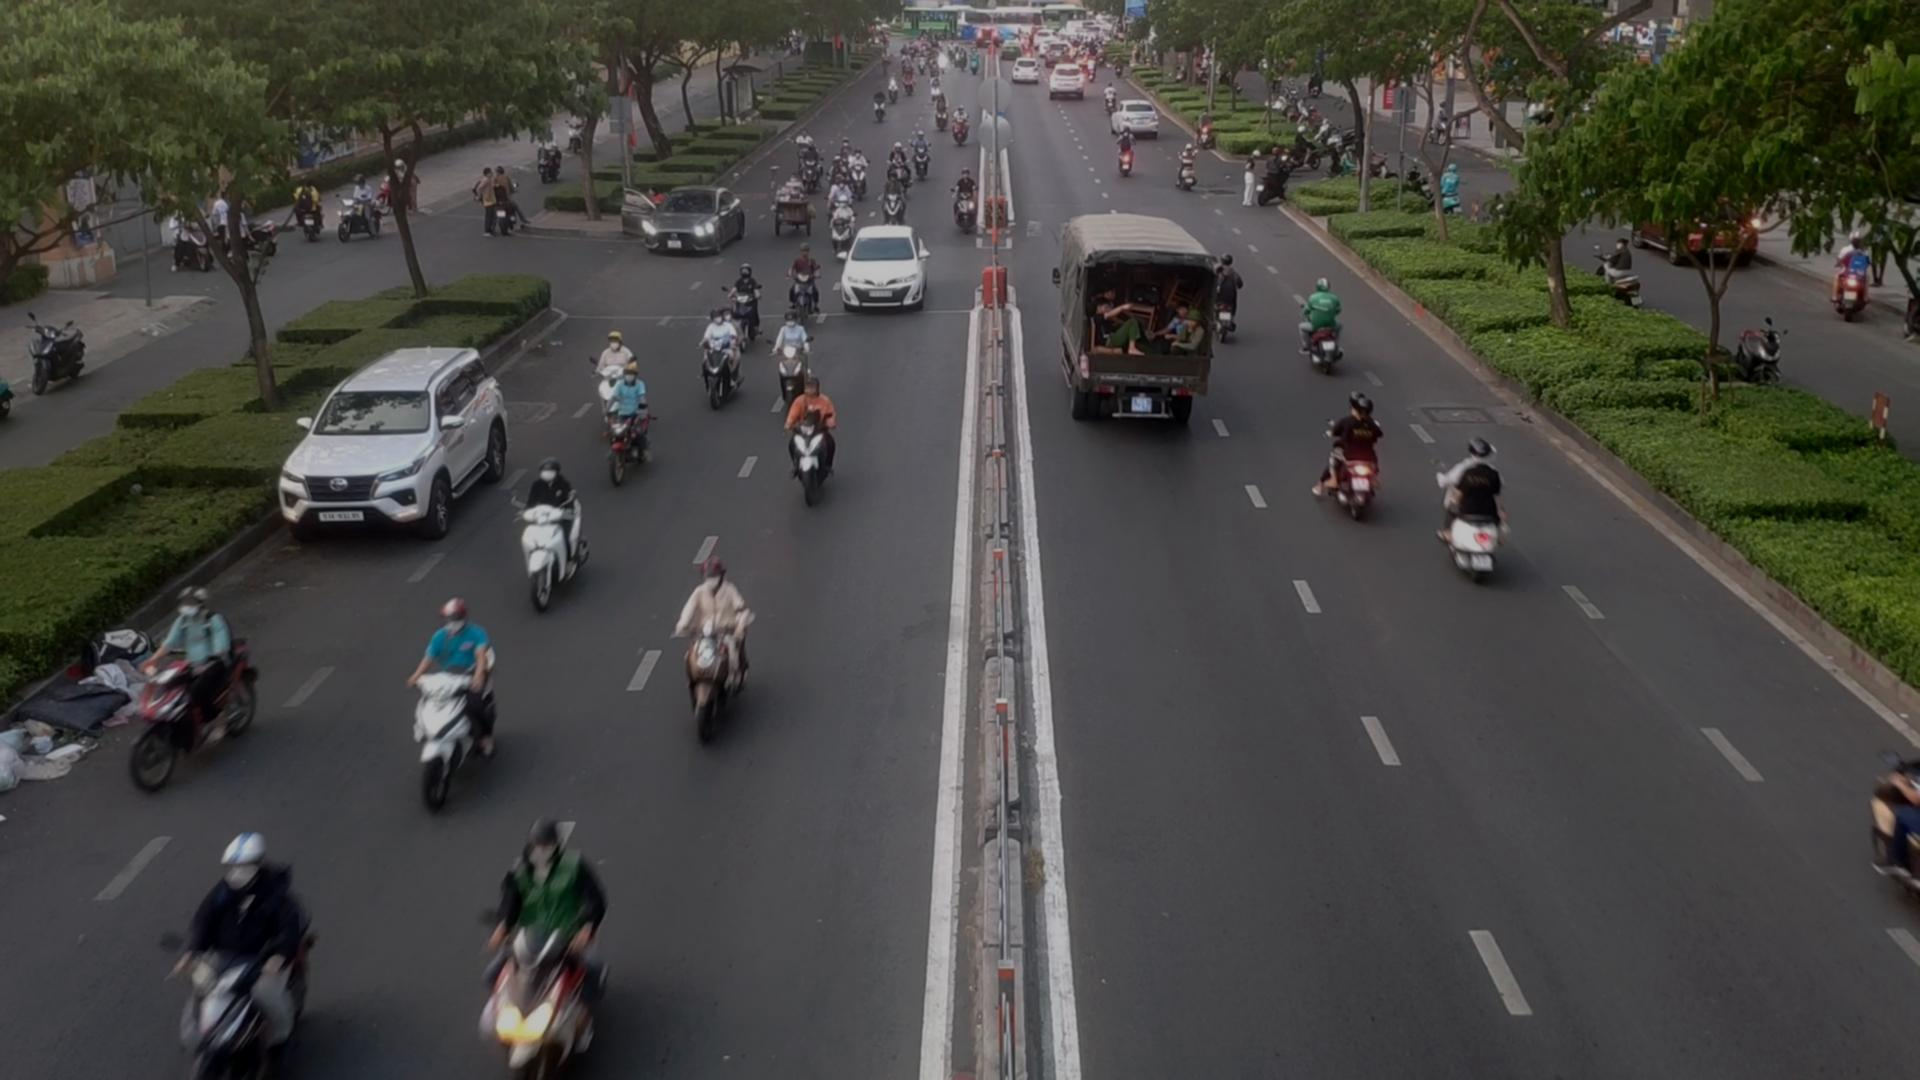car: (286, 351, 524, 541), (622, 193, 752, 260), (837, 231, 930, 314)
motorbike: (157, 837, 306, 1077), (484, 818, 618, 1076), (109, 593, 266, 789), (642, 562, 760, 750), (400, 605, 505, 793), (512, 465, 603, 608), (1429, 443, 1513, 580), (1859, 736, 1920, 918), (783, 382, 852, 506), (1309, 401, 1385, 512), (597, 376, 662, 483), (1298, 280, 1360, 371), (698, 320, 746, 407), (771, 309, 812, 392), (789, 255, 828, 328), (1211, 251, 1240, 339), (727, 272, 765, 334), (951, 167, 980, 233), (782, 195, 816, 243), (1171, 148, 1201, 193), (1108, 137, 1139, 177), (829, 193, 853, 243), (877, 185, 905, 225), (884, 149, 911, 190), (800, 154, 829, 193), (911, 144, 936, 183)
